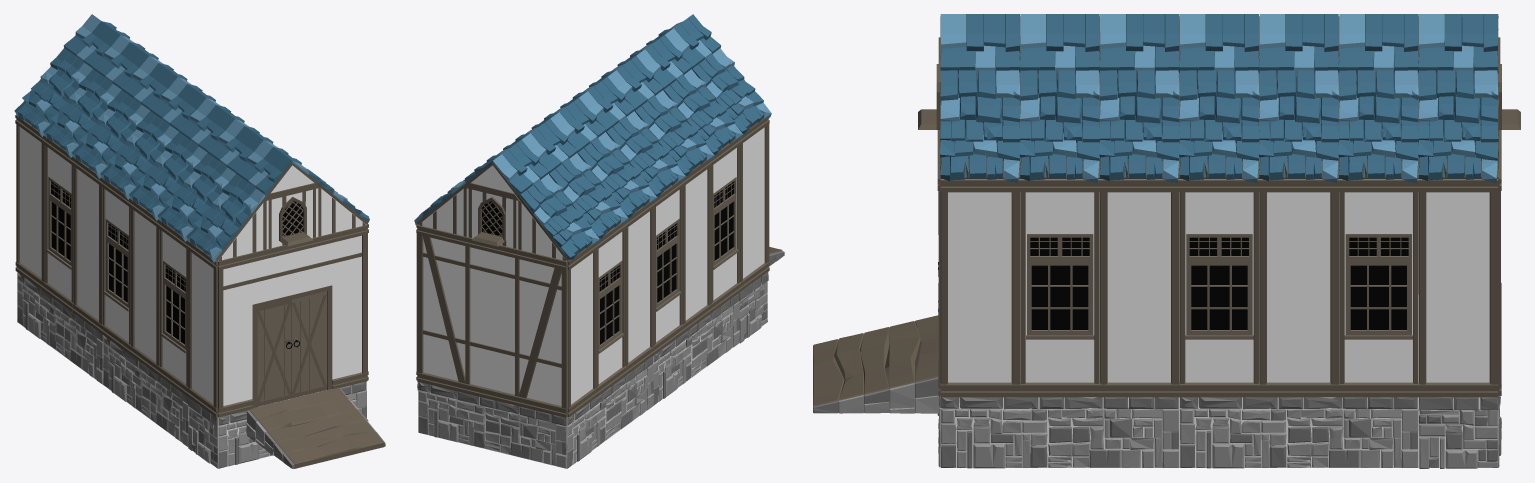
Rendered from House_04_full.glb.
The picture shows the model from 3 angles, left to right: view 1: azimuth 30°, elevation 25°; view 2: azimuth 150°, elevation 25°; view 3: azimuth 270°, elevation 25°; orthographic projection. The views are drawn at different scales.
Parts seen in each view (by area): view 1: DOOR_03_2, STAIRS_05_3, WALL_03_7, WALL_03_9, WALL_03_10, WINDOW_04_7, WINDOW_04_8, WALL_03_8, WINDOW_04_6, FOUNDATION_02_16, FOUNDATION_02_15, ROOF_base_16 (+20 smaller); view 2: WALL_02_2, FOUNDATION_02_17, WALL_03_10, WALL_03_8, WALL_03_9, WALL_03_7, WINDOW_04_8, WINDOW_04_7, FOUNDATION_02_16, WINDOW_04_6, FOUNDATION_02_15, ROOF_base_10 (+19 smaller); view 3: WINDOW_04_4, WALL_03_3, WALL_03_6, WALL_03_5, WINDOW_04_5, WINDOW_04_3, WALL_03_4, FOUNDATION_02_18, FOUNDATION_02_19, STAIRS_05_3, ROOF_base_9, ROOF_base_6 (+15 smaller).
Boxes of the visible parts, x1=… form: DOOR_03_2: x1=218, y1=225, x2=367, y2=417; STAIRS_05_3: x1=246, y1=387, x2=385, y2=468; WALL_03_7: x1=187, y1=240, x2=217, y2=417; WALL_03_9: x1=72, y1=156, x2=102, y2=332; WALL_03_10: x1=15, y1=114, x2=45, y2=291; WINDOW_04_7: x1=101, y1=177, x2=131, y2=354; WINDOW_04_8: x1=44, y1=136, x2=73, y2=312; WALL_03_8: x1=130, y1=198, x2=159, y2=374; WINDOW_04_6: x1=158, y1=219, x2=188, y2=395; FOUNDATION_02_16: x1=17, y1=272, x2=103, y2=384; FOUNDATION_02_15: x1=103, y1=335, x2=189, y2=446; ROOF_base_16: x1=186, y1=174, x2=267, y2=262; WALL_02_2: x1=417, y1=225, x2=567, y2=417; FOUNDATION_02_17: x1=418, y1=382, x2=566, y2=468; WALL_03_10: x1=567, y1=243, x2=597, y2=417; WALL_03_8: x1=682, y1=159, x2=712, y2=333; WALL_03_9: x1=625, y1=201, x2=654, y2=374; WALL_03_7: x1=740, y1=117, x2=769, y2=291; WINDOW_04_8: x1=596, y1=222, x2=626, y2=396; WINDOW_04_7: x1=654, y1=180, x2=683, y2=354; FOUNDATION_02_16: x1=566, y1=356, x2=653, y2=468; WINDOW_04_6: x1=711, y1=138, x2=741, y2=312; FOUNDATION_02_15: x1=653, y1=293, x2=739, y2=405; ROOF_base_10: x1=517, y1=174, x2=599, y2=260; WINDOW_04_4: x1=1179, y1=179, x2=1259, y2=397; WALL_03_3: x1=940, y1=179, x2=1020, y2=397; WALL_03_6: x1=1418, y1=179, x2=1498, y2=397; WALL_03_5: x1=1259, y1=179, x2=1338, y2=397; WINDOW_04_5: x1=1339, y1=179, x2=1418, y2=397; WINDOW_04_3: x1=1020, y1=179, x2=1099, y2=397; WALL_03_4: x1=1100, y1=179, x2=1179, y2=397; FOUNDATION_02_18: x1=1179, y1=397, x2=1418, y2=468; FOUNDATION_02_19: x1=940, y1=397, x2=1179, y2=468; STAIRS_05_3: x1=813, y1=315, x2=939, y2=413; ROOF_base_9: x1=1418, y1=70, x2=1498, y2=183; ROOF_base_6: x1=1178, y1=68, x2=1259, y2=183.
Bounding box in the file's own units: 3.2 × 5.59 × 8.88.
1 material, 1 textured.
